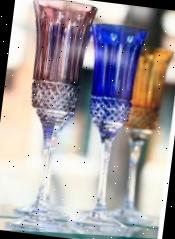glass: (4, 0, 175, 239)
